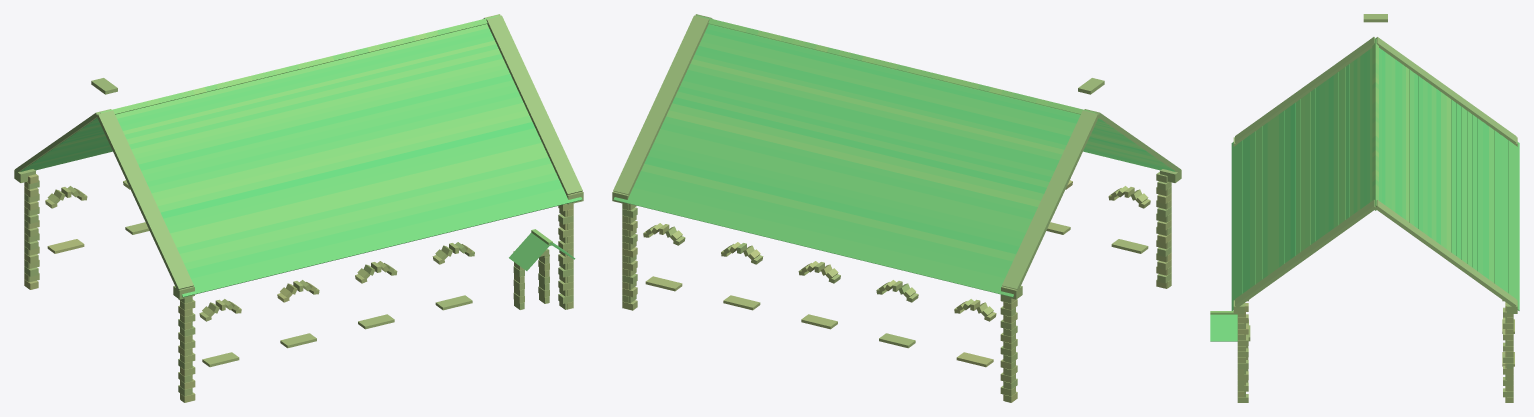
The model's file is SM_Bld_149_Stone.glb.
The picture shows the model from 3 angles, left to right: view 1: azimuth 30°, elevation 25°; view 2: azimuth 150°, elevation 25°; view 3: azimuth 270°, elevation 25°; orthographic projection. The views are drawn at different scales.
Parts seen in each view (by area): view 1: SM_Bld_149_Stone; view 2: SM_Bld_149_Stone; view 3: SM_Bld_149_Stone.
Part boxes in pixels (left/top/right/bottom): SM_Bld_149_Stone: left=14, top=14, right=583, bottom=402; SM_Bld_149_Stone: left=612, top=14, right=1181, bottom=402; SM_Bld_149_Stone: left=1210, top=14, right=1519, bottom=402.
Bounding box in the file's own units: 19.15 × 11.77 × 14.79.
